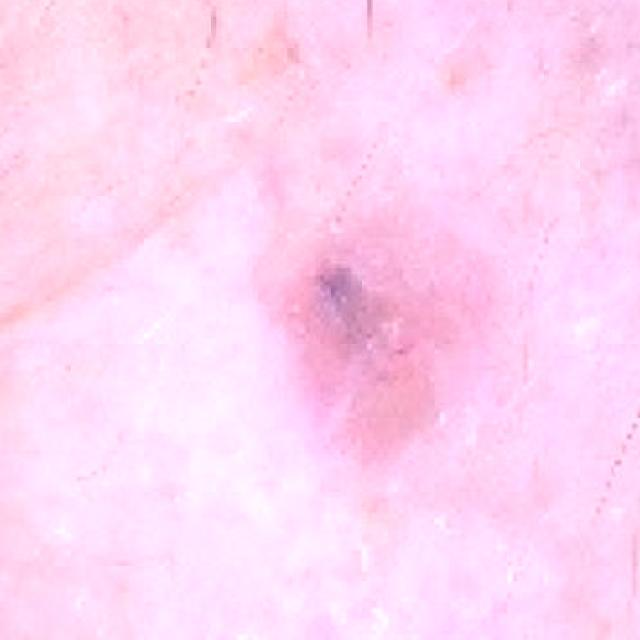BCC: (220, 165, 514, 541)
